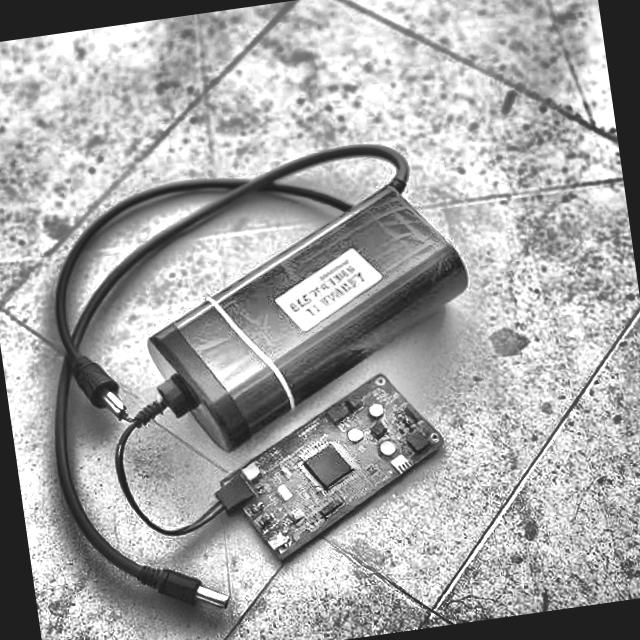Battery: (148, 184, 473, 448)
Cable: (45, 138, 412, 613)
PCB: (217, 372, 446, 567)
